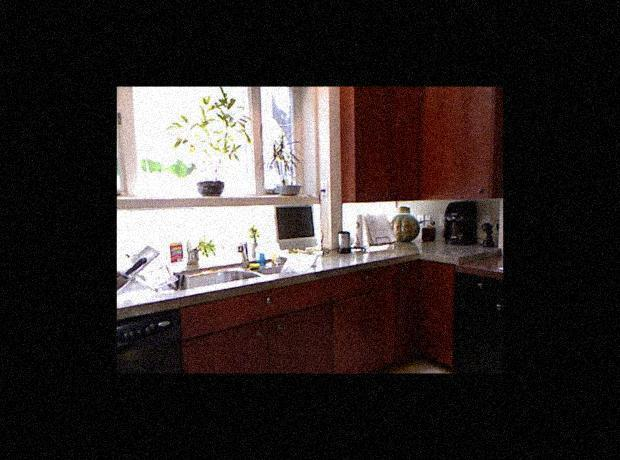Lavaplatos: (162, 240, 263, 296)
